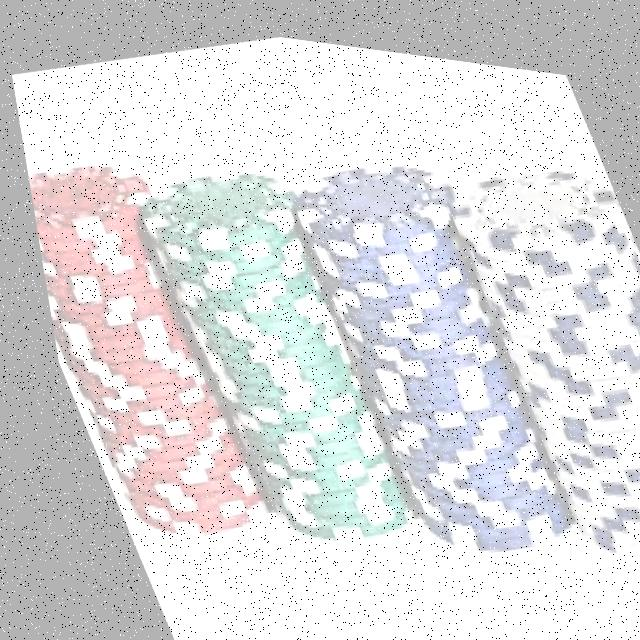Chip: (262, 116, 588, 570), (115, 128, 438, 567), (17, 131, 286, 562), (416, 104, 640, 576)
